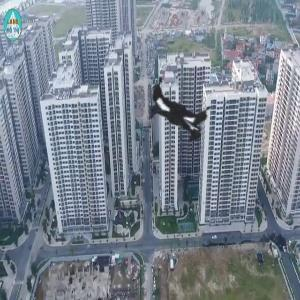drone: (80, 15, 281, 216)
